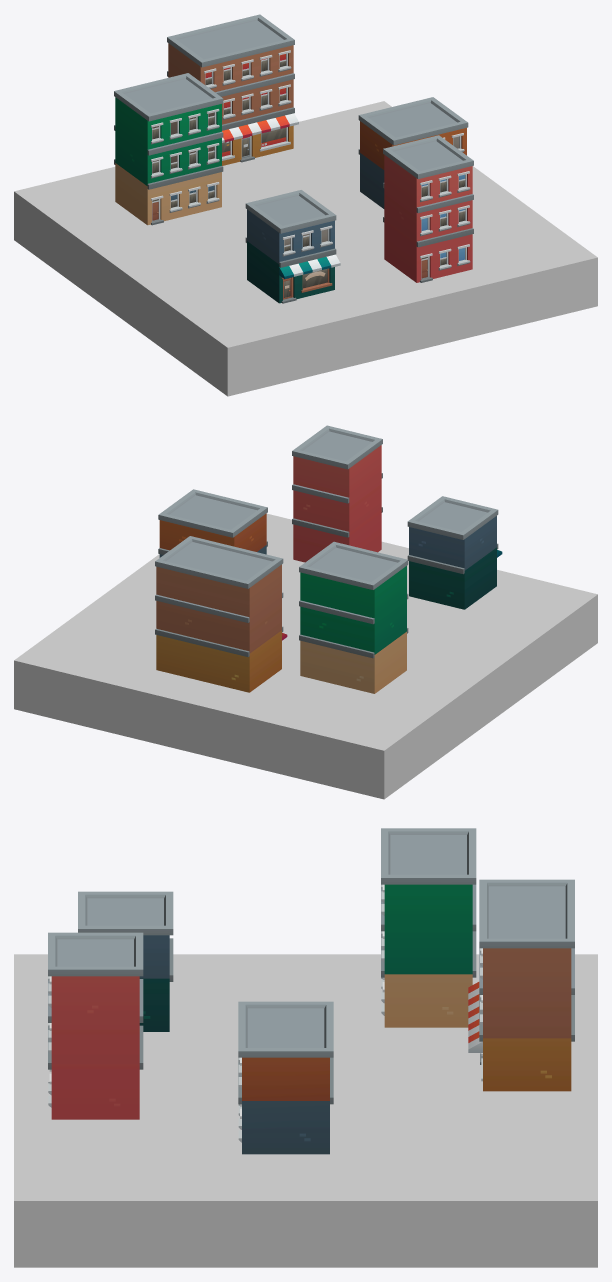
Rendered from Block01.glb.
The picture shows the model from 3 angles, top to bottom: view 1: azimuth 30°, elevation 25°; view 2: azimuth 150°, elevation 25°; view 3: azimuth 270°, elevation 25°; orthographic projection. The views are drawn at different scales.
Parts seen in each view (by area): view 1: Block01, building_D_withoutBase, building_E_withoutBase, building_C_withoutBase, building_A_withoutBase, building_B_withoutBase; view 2: Block01, building_E_withoutBase, building_D_withoutBase, building_C_withoutBase, building_A_withoutBase, building_B_withoutBase; view 3: Block01, building_E_withoutBase, building_D_withoutBase, building_C_withoutBase, building_B_withoutBase, building_A_withoutBase.
Part boxes in pixels (x1,y1,x2,y2): Block01: (14,101,597,396); building_D_withoutBase: (114,73,223,225); building_E_withoutBase: (167,14,298,165); building_C_withoutBase: (383,135,473,282); building_A_withoutBase: (245,190,340,303); building_B_withoutBase: (358,97,468,208); Block01: (14,513,597,799); building_E_withoutBase: (155,536,287,692); building_D_withoutBase: (299,541,408,693); building_C_withoutBase: (292,425,382,562); building_A_withoutBase: (407,496,502,609); building_B_withoutBase: (158,489,267,557); Block01: (14,954,597,1267); building_E_withoutBase: (468,879,574,1091); building_D_withoutBase: (381,828,476,1027); building_C_withoutBase: (48,932,143,1119); building_B_withoutBase: (238,1001,333,1154); building_A_withoutBase: (78,891,173,1031).
Size of the model in its own units: 7.95 by 3.57 by 7.95.
Materials: 5 (5 with a texture image).
